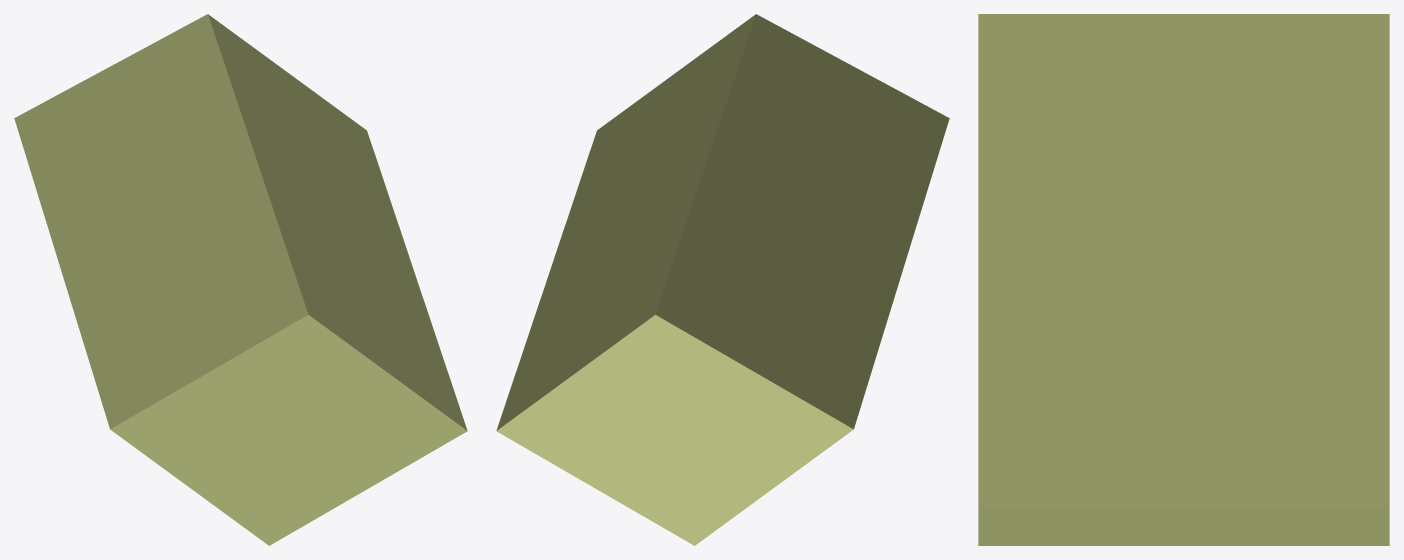
3 renders of one model, left to right at view 1: azimuth 30°, elevation 25°; view 2: azimuth 150°, elevation 25°; view 3: azimuth 270°, elevation 25°, orthographic. The views are drawn at different scales.
Parts seen in each view (by area): view 1: 0_2_0_1_1_2_1_1_1_3_0; view 2: 0_2_0_1_1_2_1_1_1_3_0; view 3: 0_2_0_1_1_2_1_1_1_3_0.
Part boxes in pixels (x1,y1,x2,y2): 0_2_0_1_1_2_1_1_1_3_0: (14,14,467,545); 0_2_0_1_1_2_1_1_1_3_0: (496,14,949,545); 0_2_0_1_1_2_1_1_1_3_0: (978,14,1389,545).
Size of the model in its own units: 6.4 by 8.14 by 6.
